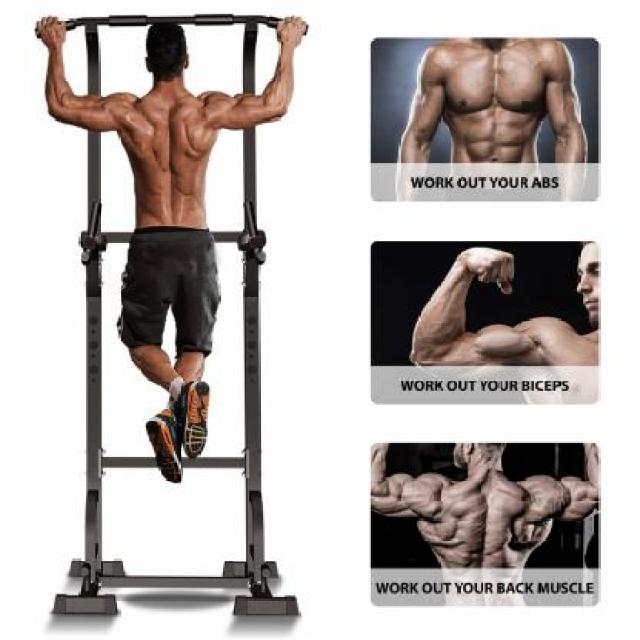chinning dipping: (33, 11, 310, 617)
